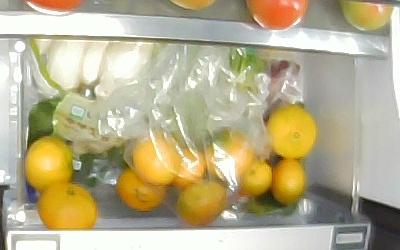tangerine: (266, 104, 317, 159), (38, 184, 96, 229), (24, 137, 71, 192), (177, 180, 225, 225), (115, 168, 165, 211), (271, 158, 305, 203), (240, 159, 272, 195)
tangerine_vinyl: (204, 128, 253, 180), (132, 132, 179, 185), (171, 148, 206, 184)
